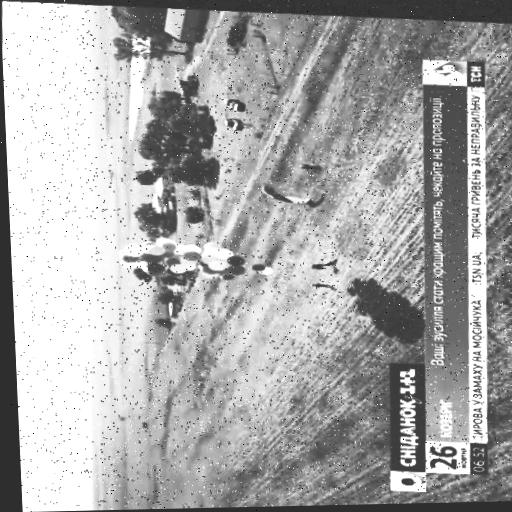balloon: (127, 242, 145, 254), (148, 241, 166, 252), (184, 241, 202, 252), (124, 249, 141, 260), (211, 256, 228, 267), (144, 251, 164, 260), (185, 248, 203, 258), (230, 261, 248, 271), (122, 256, 139, 266), (158, 233, 175, 243), (182, 253, 199, 263), (204, 265, 221, 275), (219, 245, 234, 256), (203, 243, 221, 252), (208, 236, 224, 246), (171, 261, 188, 270), (203, 250, 220, 259), (229, 251, 244, 261), (149, 260, 165, 269), (148, 265, 163, 274), (169, 254, 184, 263), (205, 260, 217, 271), (164, 240, 177, 250), (261, 261, 275, 270), (254, 259, 267, 268), (183, 260, 198, 267), (221, 264, 232, 273), (171, 250, 186, 256), (223, 271, 237, 277), (176, 240, 184, 250), (144, 239, 156, 243)
